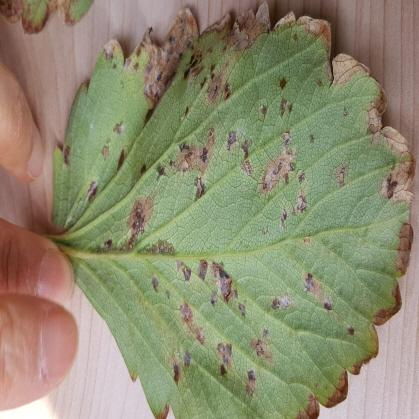Angular Leafspot: (50, 0, 417, 418)
